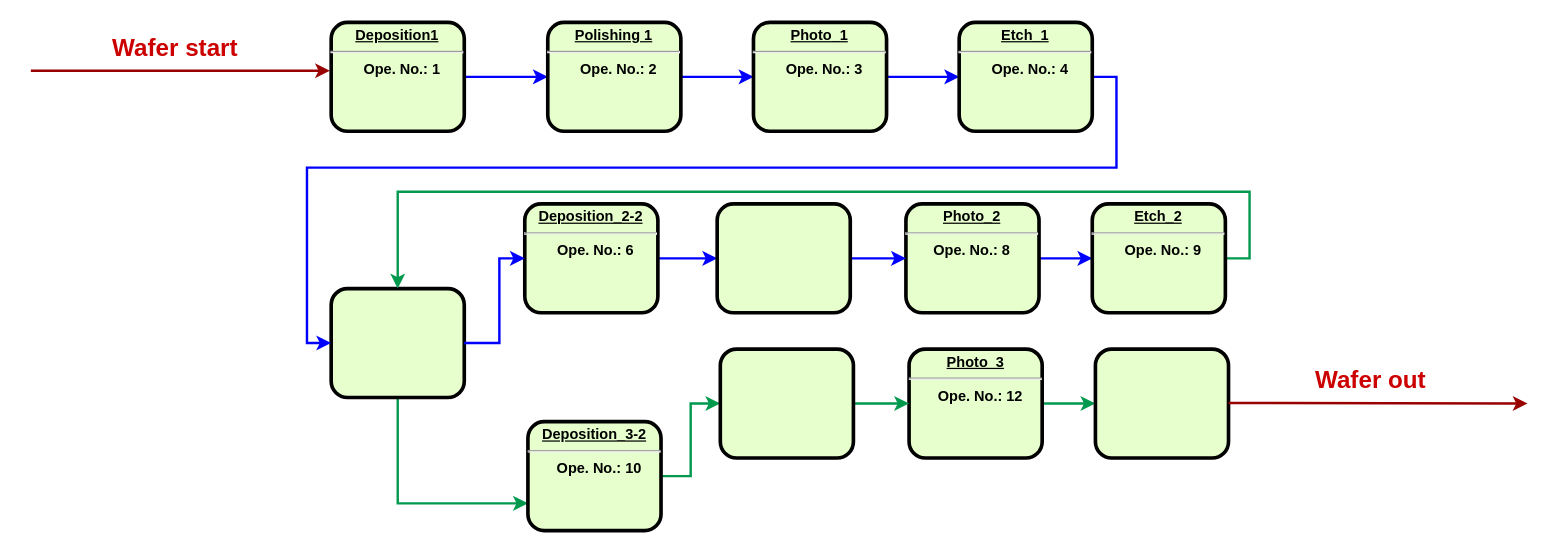
Some shapes in this 1558 by 553 pixel diagram are drawn without their labels. The shapes that lost their labels are listed below. From the top down, each one's centre as x and y in pixels, then its label:
At point (783, 257): "Polishing 2 Ope. No.: 7".
At point (397, 342): "Deposition_2-1 Ope. No.: 5".
At point (786, 403): "Polishing 3 Ope. No.: 11".
At point (1161, 403): "Etch_3 Ope. No.: 13".
